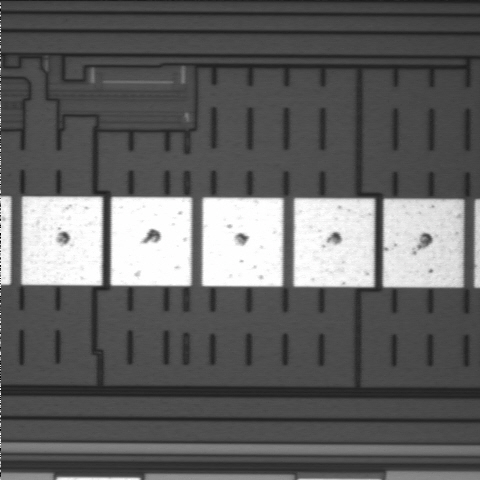pad: (202, 197, 283, 287), (22, 196, 103, 285), (111, 197, 192, 286), (294, 198, 375, 287), (383, 199, 464, 287)
